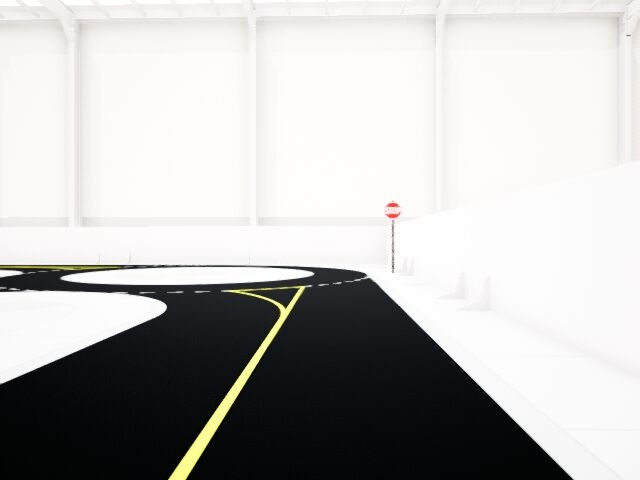stopsign: (385, 202, 400, 219)
